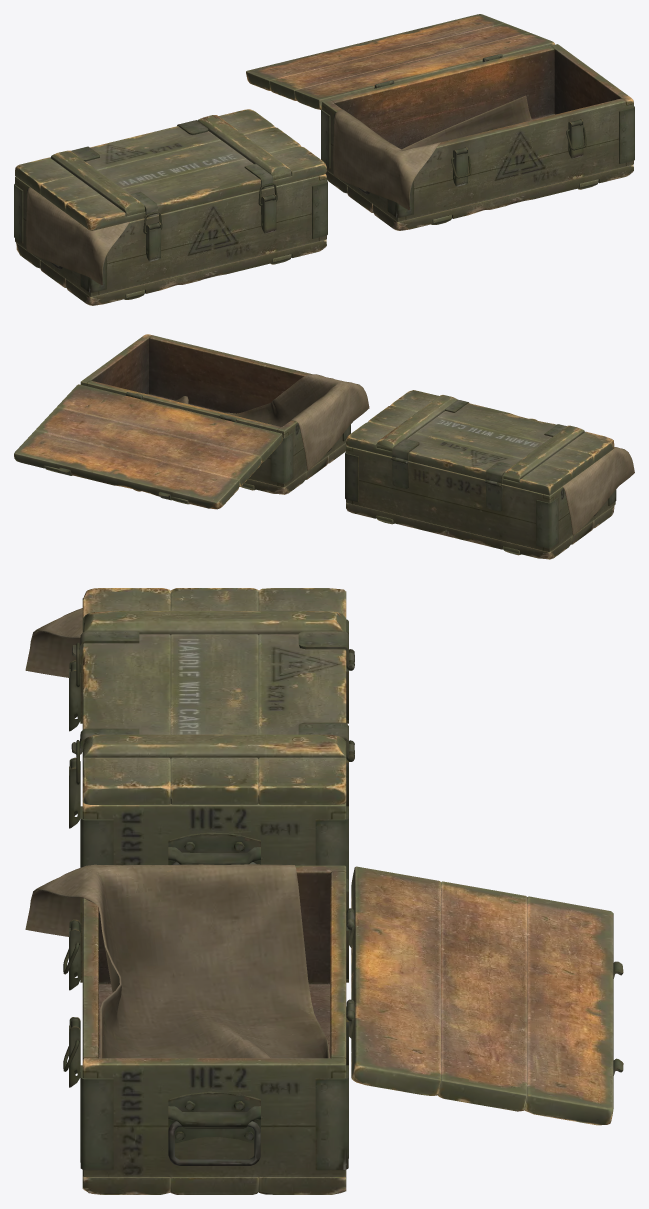
Rendered from old_military_crate.glb.
The picture shows the model from 3 angles, top to bottom: view 1: azimuth 30°, elevation 25°; view 2: azimuth 150°, elevation 25°; view 3: azimuth 270°, elevation 25°; orthographic projection. The views are drawn at different scales.
Visible parts, largest first — view 1: old_military_crate_lid_a; view 2: old_military_crate_lid_a; view 3: old_military_crate_lid_a.
Boxes of the visible parts, left/top/right/bottom form: old_military_crate_lid_a: left=14, top=14, right=634, bottom=305; old_military_crate_lid_a: left=14, top=334, right=634, bottom=559; old_military_crate_lid_a: left=25, top=588, right=623, bottom=1194.
Size of the model in its own units: 1.82 by 0.3009 by 0.9756.
1 material, 1 textured.
